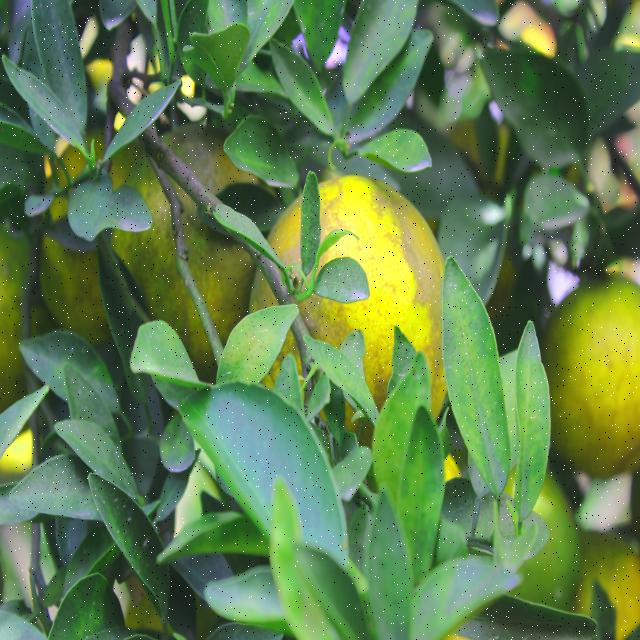blackspot: (440, 274, 506, 457), (225, 308, 288, 381)
